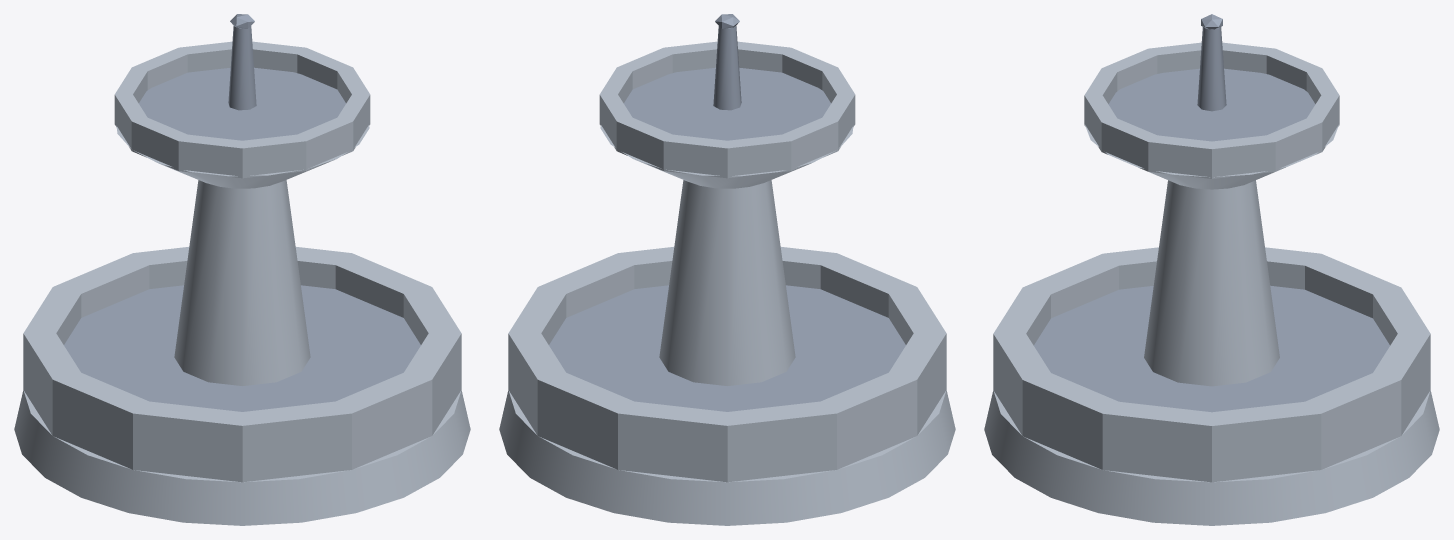
Rendered from garden-fountain.glb.
The picture shows the model from 3 angles, left to right: view 1: azimuth 30°, elevation 25°; view 2: azimuth 150°, elevation 25°; view 3: azimuth 270°, elevation 25°; orthographic projection.
Visible parts, largest first — view 1: garden-fountain; view 2: garden-fountain; view 3: garden-fountain.
Boxes of the visible parts, left/top/right/bottom form: garden-fountain: left=14, top=14, right=470, bottom=525; garden-fountain: left=499, top=14, right=955, bottom=525; garden-fountain: left=984, top=14, right=1439, bottom=525.
Size of the model in its own units: 1.25 by 1.25 by 1.25.
